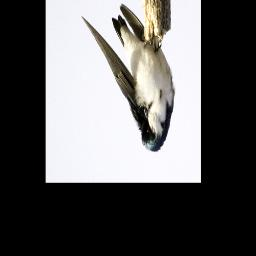Swallow: (81, 2, 176, 154)
